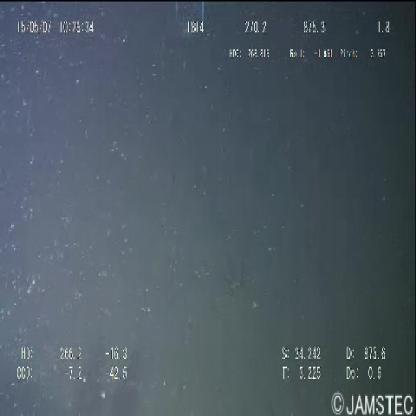Rác: (171, 2, 208, 38)
